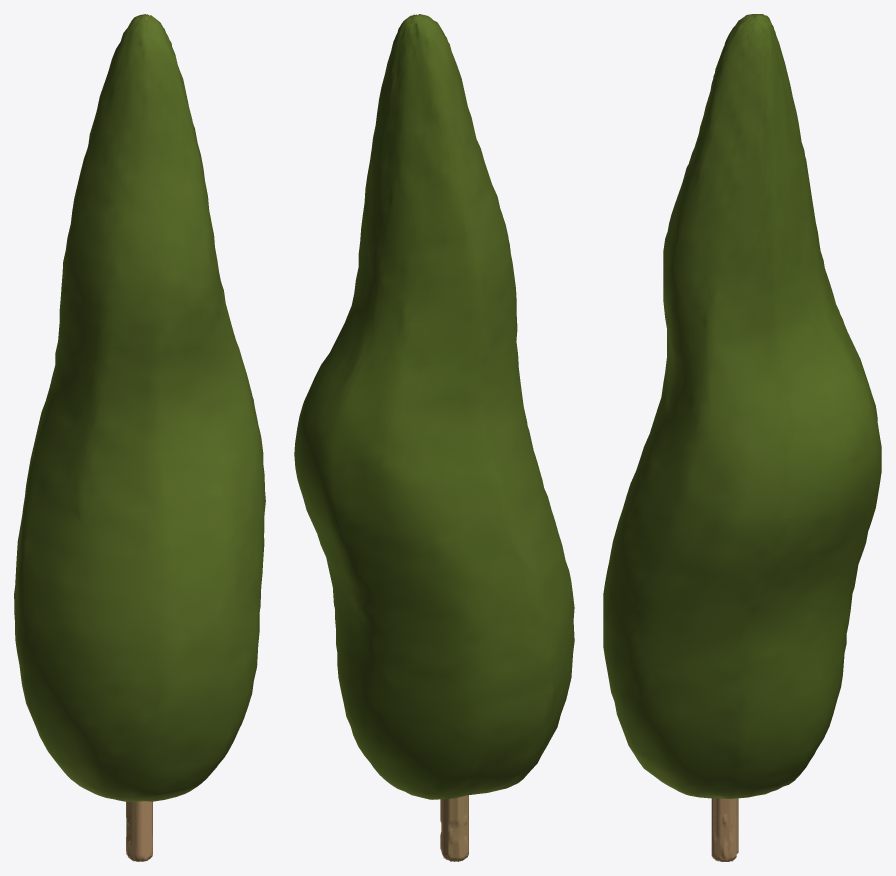
The model's file is tree1_2-optimized.glb.
The picture shows the model from 3 angles, left to right: view 1: azimuth 30°, elevation 25°; view 2: azimuth 150°, elevation 25°; view 3: azimuth 270°, elevation 25°; orthographic projection. The views are drawn at different scales.
Bounding box in the file's own units: 0.5597 × 1.91 × 0.5636.
Materials: 1 (1 with a texture image).
